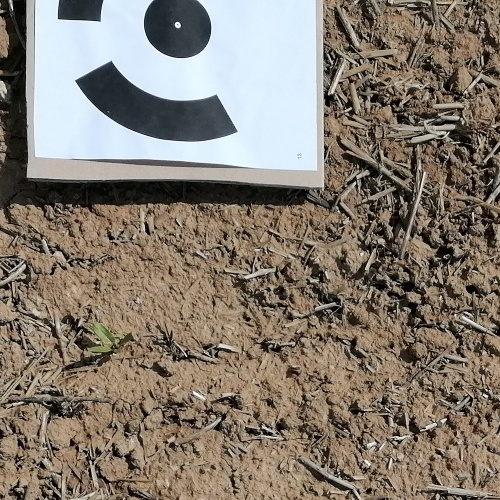beet: (88, 321, 135, 360)
